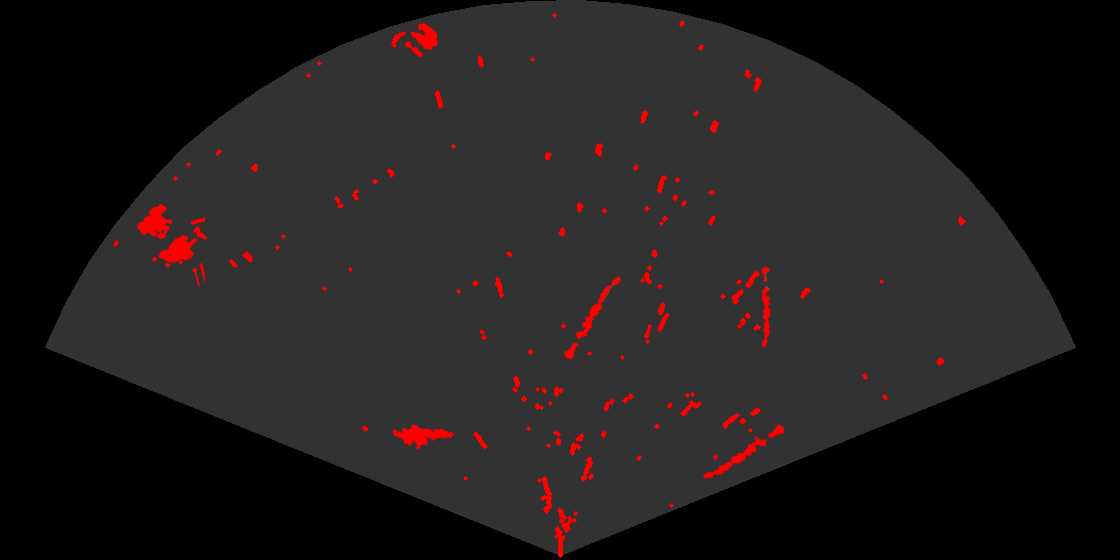ball: (403, 21, 439, 59)
cage: (135, 202, 205, 286)
chain: (562, 275, 623, 361), (701, 423, 786, 480), (760, 265, 772, 349)
frogman: (393, 423, 456, 451)
